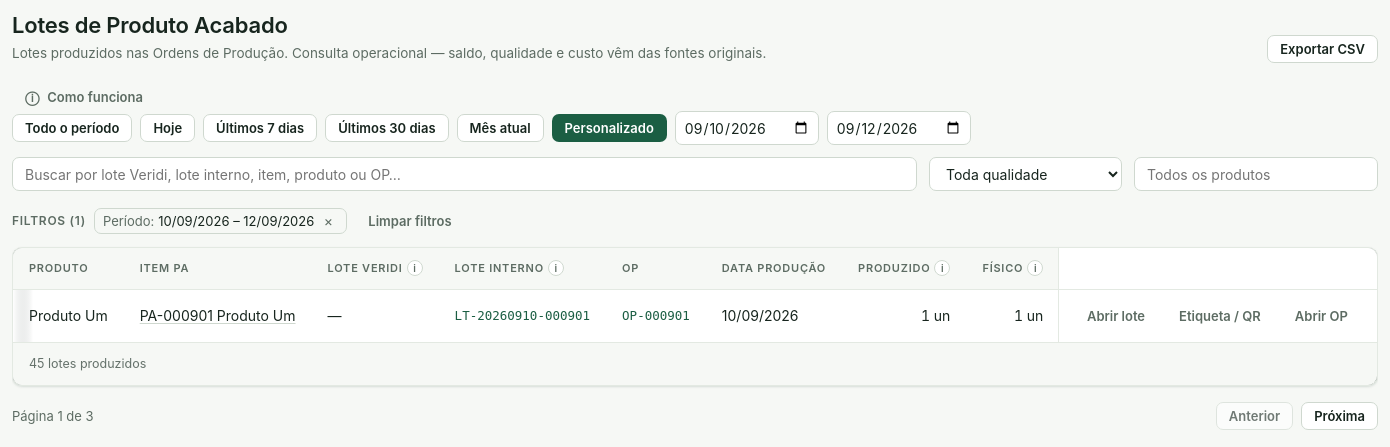
Test: as seis perguntas do período, lista por lista › Produto Acabado
The image size is (1390, 447).
Type "2026-09-10" into the 2nd date field named "Produzido até" at (899, 128), box [827,111,971,145]
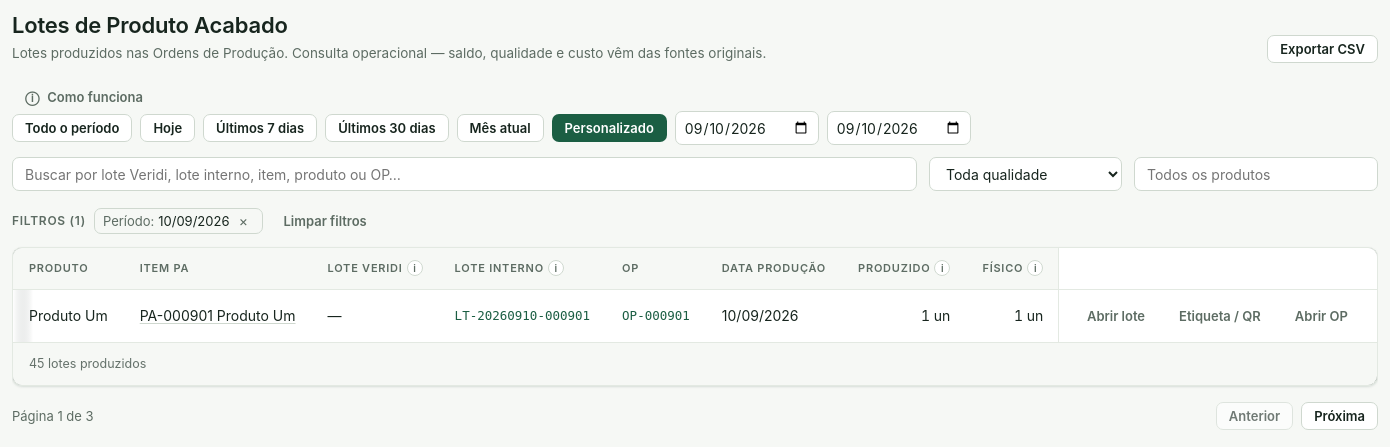
Expected: the text "LT-20260910-000901" is shown, [439,290,606,342]
Expected: the text "Página 1 de 3" is shown, [12,407,94,426]
Clear the 2nd date field named "Produzido até" at (899, 128), box [827,111,971,145]
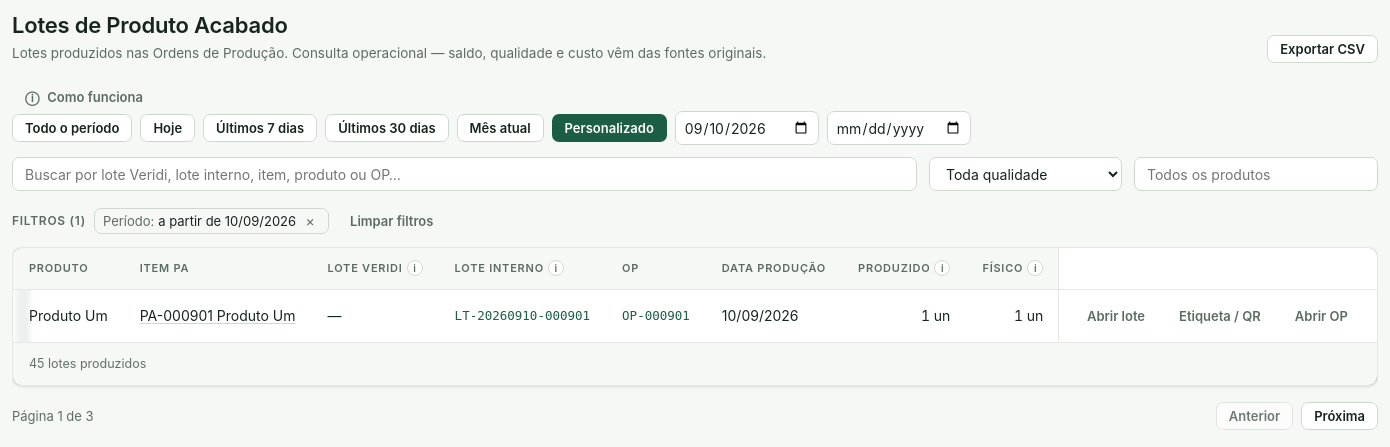
Expected: the text "LT-20260910-000901" is shown, [439,290,606,342]
Expected: the text "Página 1 de 3" is shown, [12,407,94,426]
Clear the 1st date field named "Produzido a partir de" at (747, 128), box [675,111,819,145]
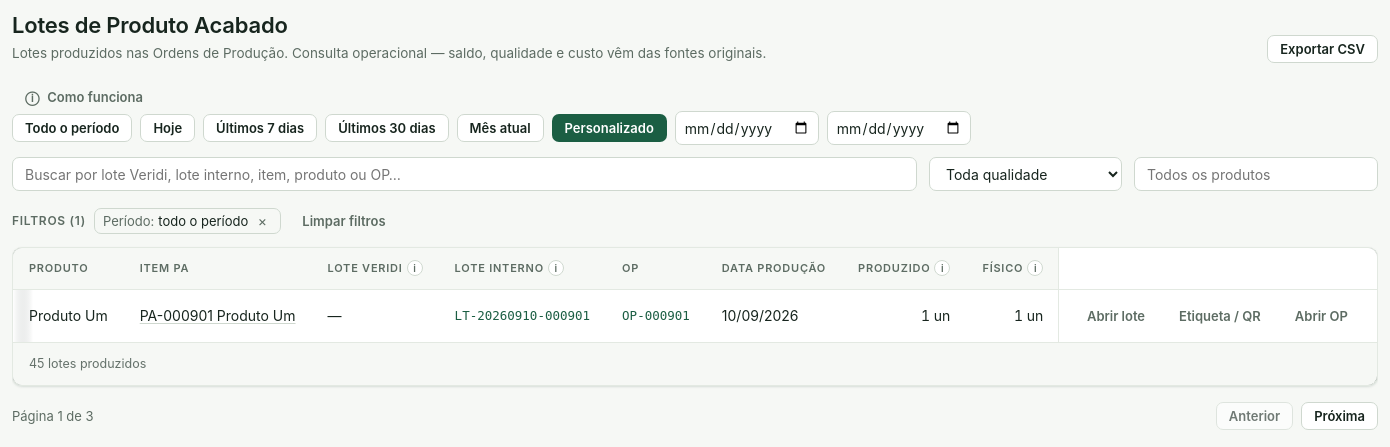
Expected: the text "LT-20260910-000901" is shown, [439,290,606,342]
Expected: the text "Página 1 de 3" is shown, [12,407,94,426]
Type "2026-09-10" into the 2nd date field named "Produzido até" at (899, 128), box [827,111,971,145]
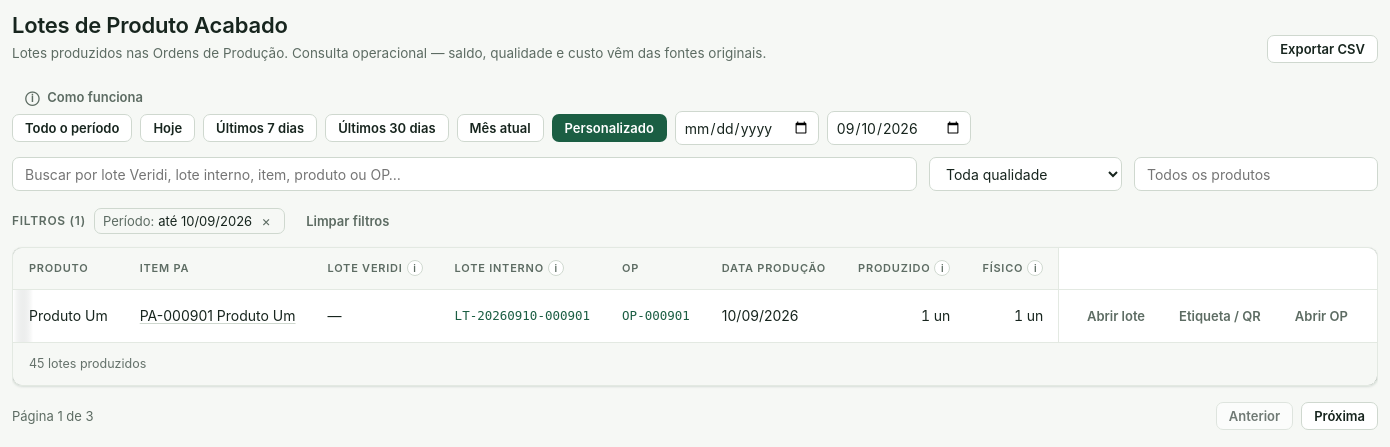
Expected: the text "LT-20260910-000901" is shown, [439,290,606,342]
Expected: the text "Página 1 de 3" is shown, [12,407,94,426]
Type "2026-09-11" into the 1st date field named "Produzido a partir de" at (747, 128), box [675,111,819,145]
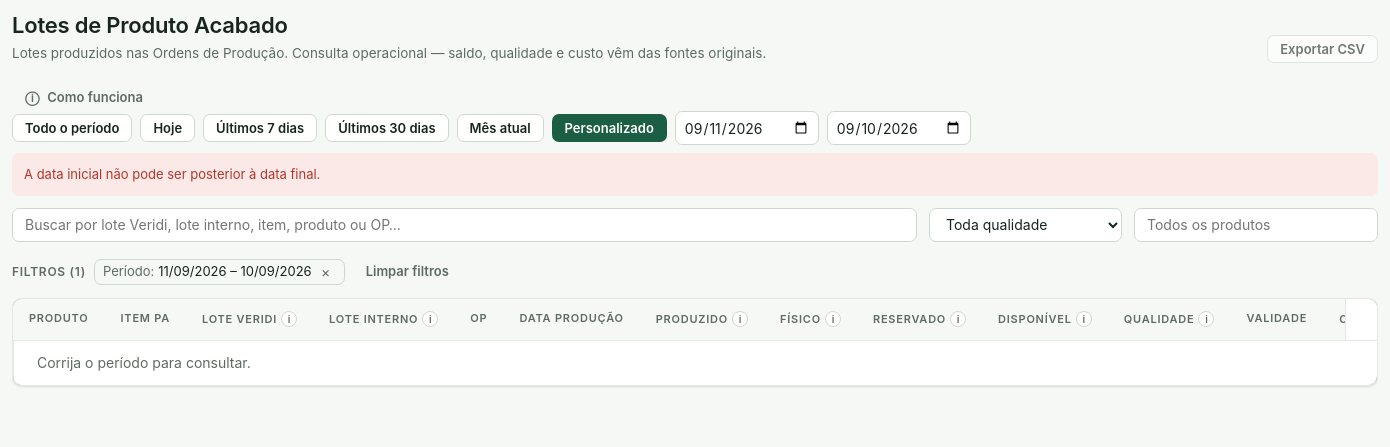
Expected: the message "A data inicial não pode ser posterior à data final." is shown, [12,153,1378,196]
Expected: the message reads "A data inicial não pode ser posterior à data final.", [24,166,320,182]
Expected: the text "Corrija o período para consultar." is shown, [37,354,251,371]
Type "2026-09-11" into the 2nd date field named "Produzido até" at (899, 128), box [827,111,971,145]
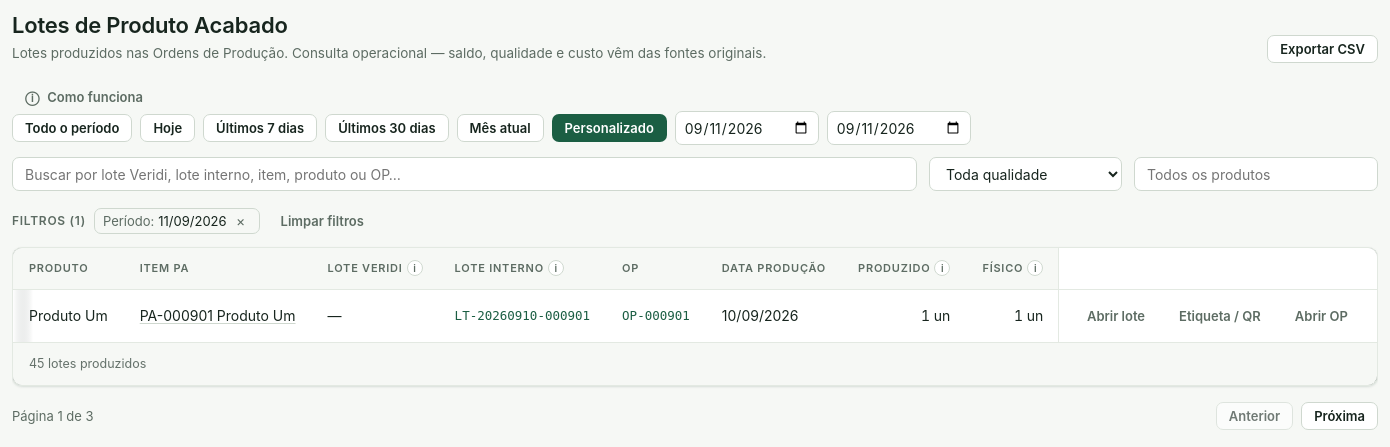
Expected: the text "LT-20260910-000901" is shown, [439,290,606,342]
Expected: the text "Página 1 de 3" is shown, [12,407,94,426]
Expected: the message "A data inicial não pode ser posterior à data final." is gone
